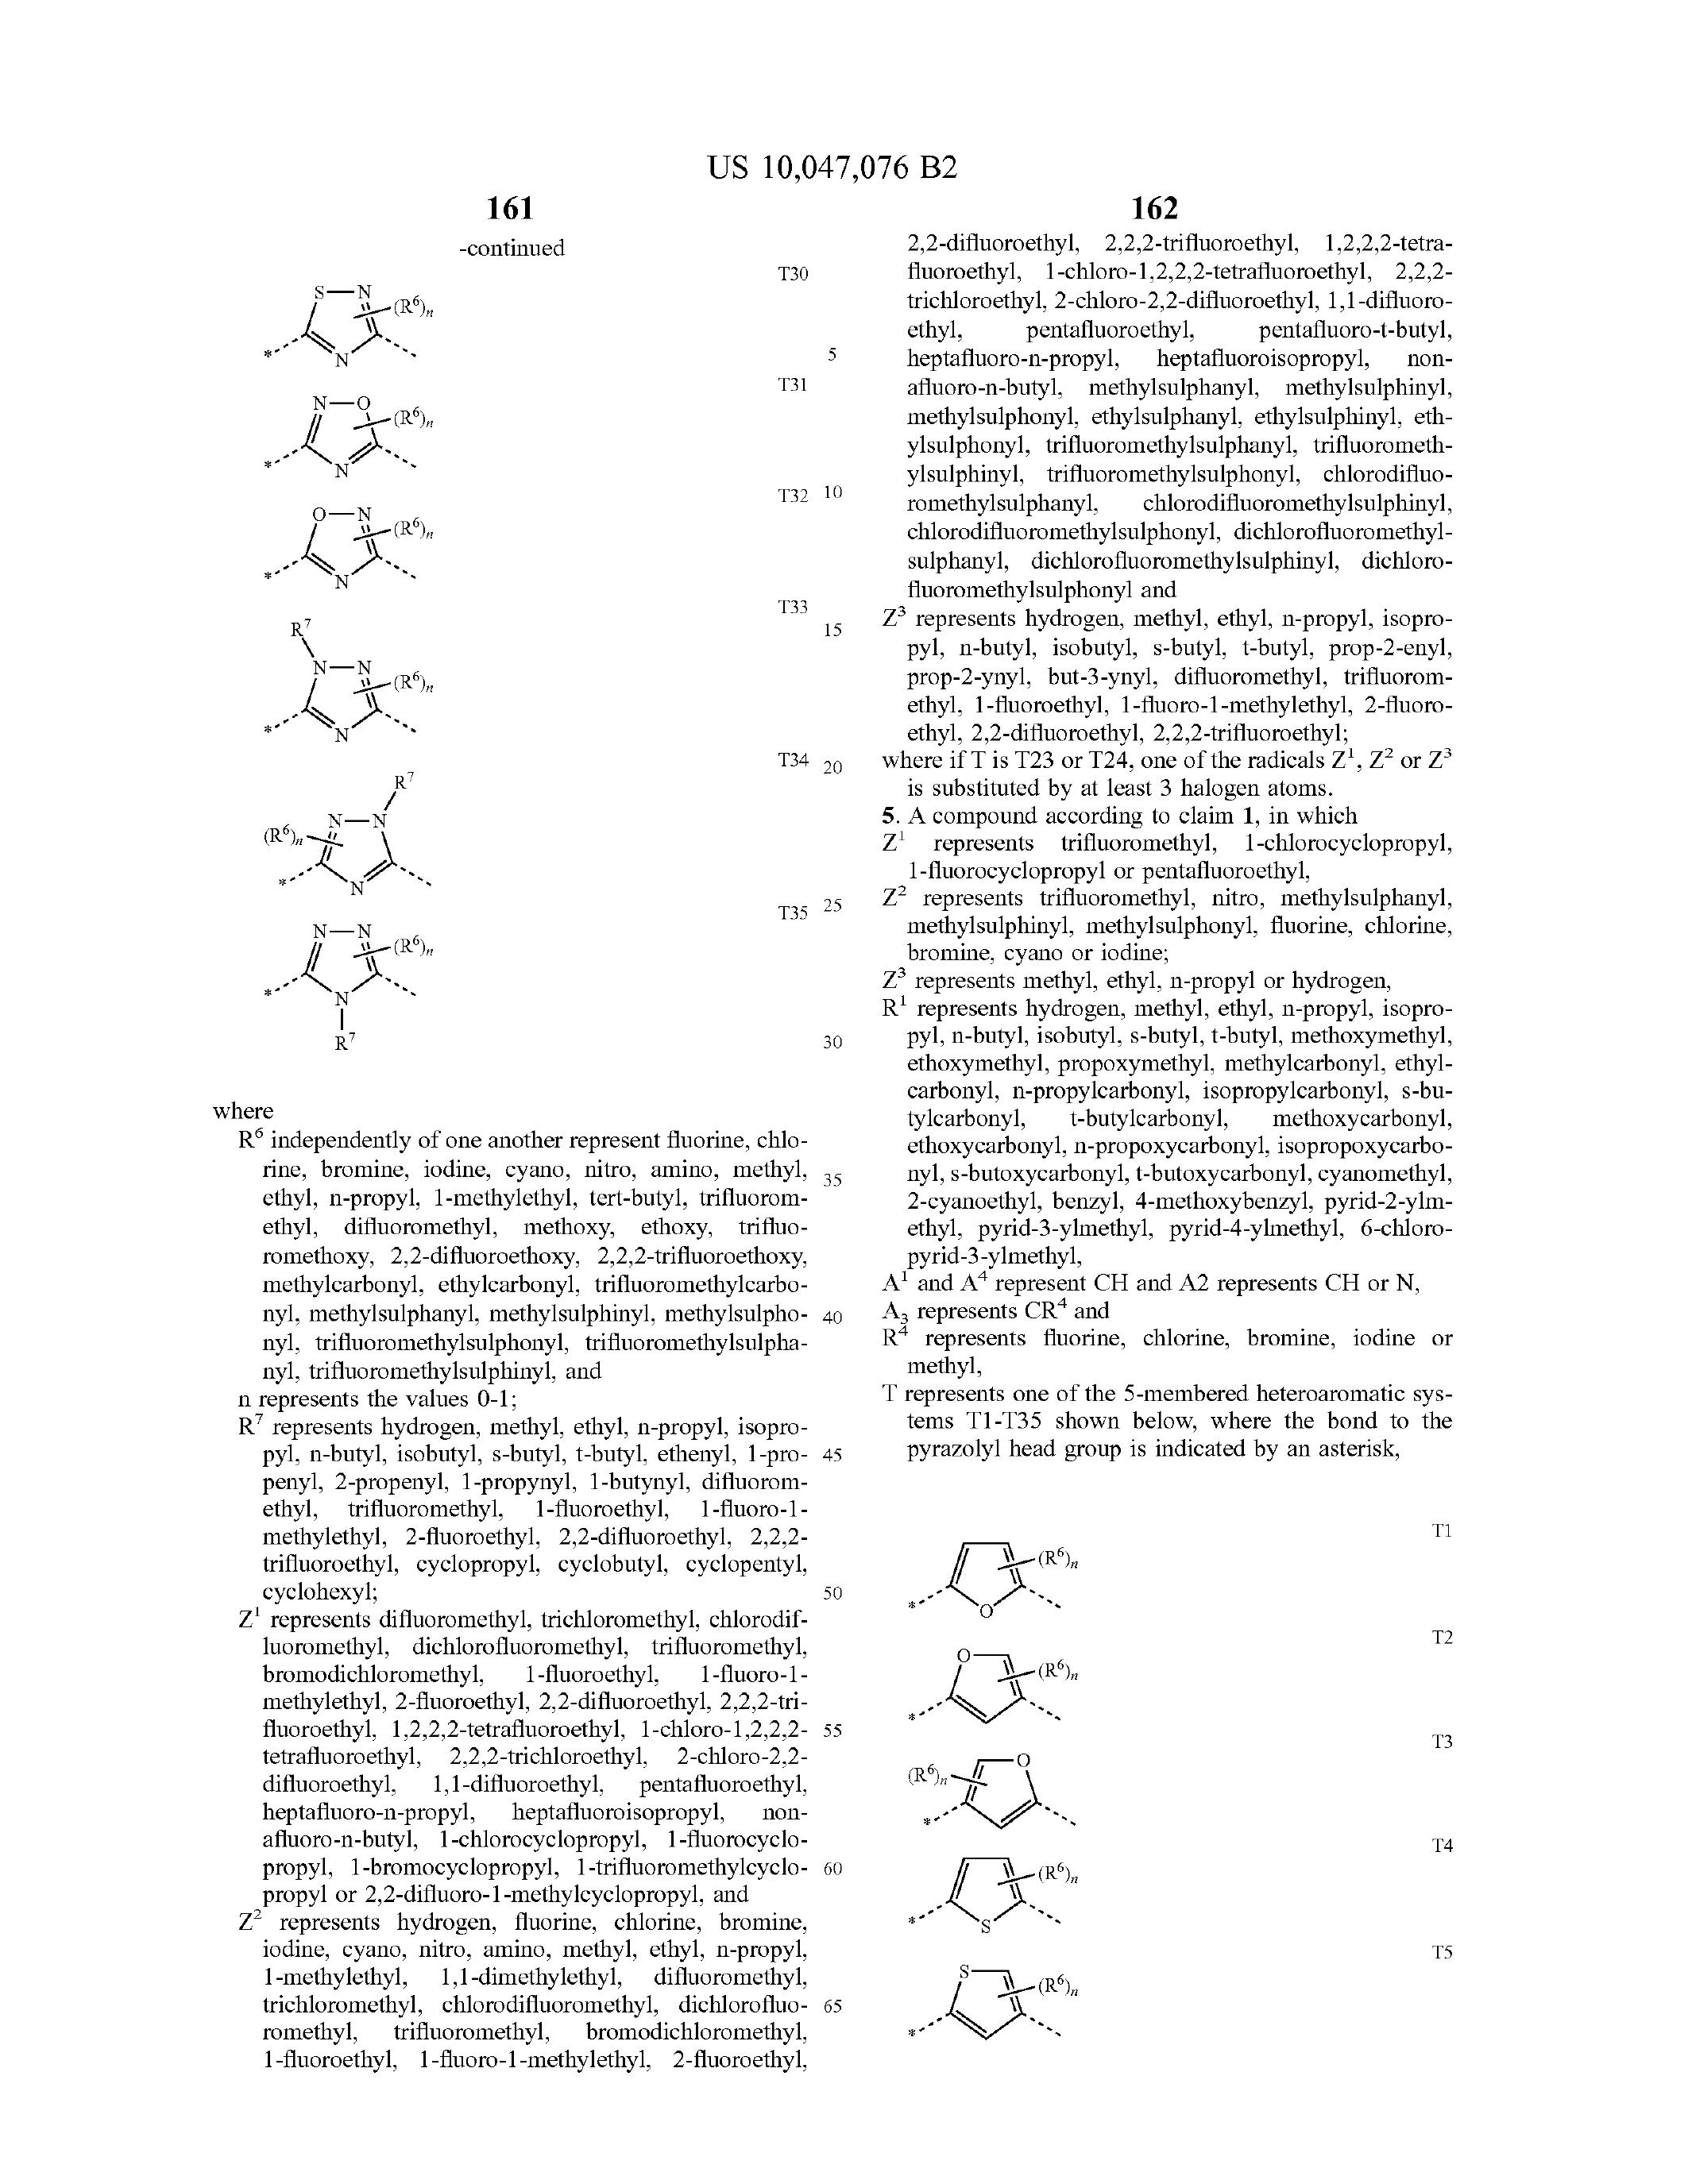substitutes: (199, 1049, 812, 1595)
